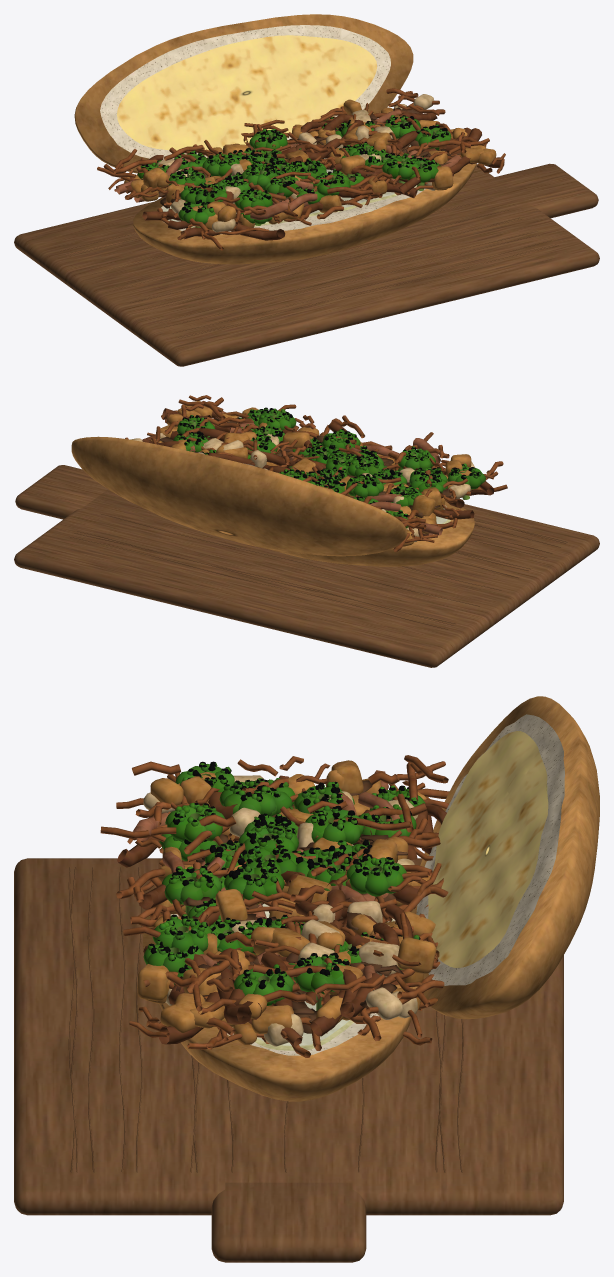
File: alhoaria-ingredientes.glb
3 views of the same model, one above another, from view 1: azimuth 30°, elevation 25°; view 2: azimuth 150°, elevation 25°; view 3: azimuth 270°, elevation 25° (orthographic). The views are drawn at different scales.
Parts seen in each view (by area): view 1: stage_board, stage_bread, stage_gratin, filling_brocolis, filling_pork, filling_frango, filling_alcatra, filling_costela; view 2: stage_board, stage_bread, filling_brocolis, filling_pork, filling_frango, filling_alcatra, filling_costela; view 3: stage_board, stage_bread, filling_brocolis, filling_pork, filling_frango, stage_gratin, filling_alcatra, filling_costela.
Part boxes in pixels (x1,y1,x2,y2): stage_board: (14, 163, 599, 366); stage_bread: (74, 14, 476, 264); stage_gratin: (117, 35, 408, 186); filling_brocolis: (137, 115, 451, 227); filling_pork: (97, 88, 505, 250); filling_frango: (124, 94, 496, 232); filling_alcatra: (115, 108, 504, 240); filling_costela: (141, 106, 460, 234); stage_board: (14, 465, 599, 667); stage_bread: (71, 436, 474, 566); filling_brocolis: (173, 407, 485, 528); filling_pork: (125, 395, 507, 551); filling_frango: (130, 401, 474, 546); filling_alcatra: (142, 408, 494, 535); filling_costela: (160, 416, 452, 517); stage_board: (14, 858, 563, 1262); stage_bread: (142, 696, 599, 1101); filling_brocolis: (143, 761, 425, 1010); filling_pork: (100, 755, 449, 1057); filling_frango: (137, 760, 436, 1046); stage_gratin: (210, 731, 548, 967); filling_alcatra: (117, 770, 446, 1046); filling_costela: (180, 780, 407, 1033).
Size of the model in its own units: 0.3477 by 0.1145 by 0.2216.
Materials: 10 (10 with a texture image).
